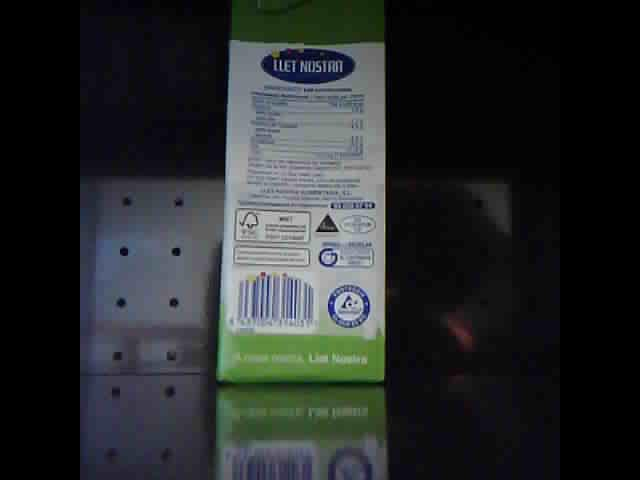leche: (215, 2, 389, 385)
